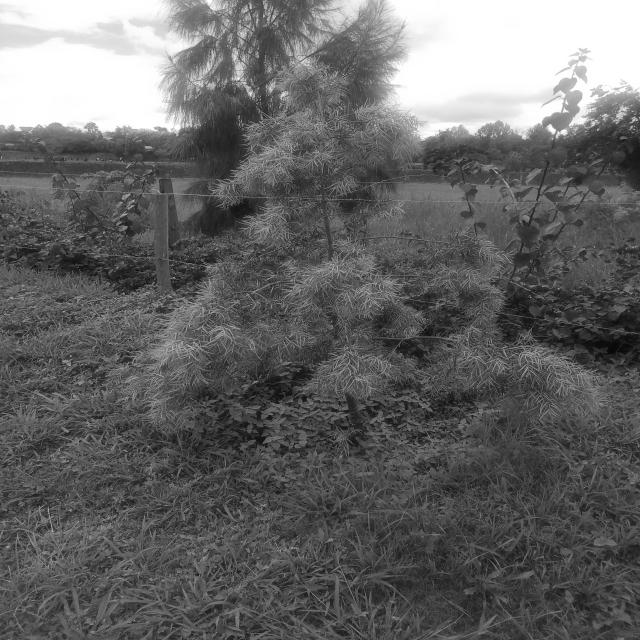Podocarpus falcatus: (153, 61, 602, 446)
